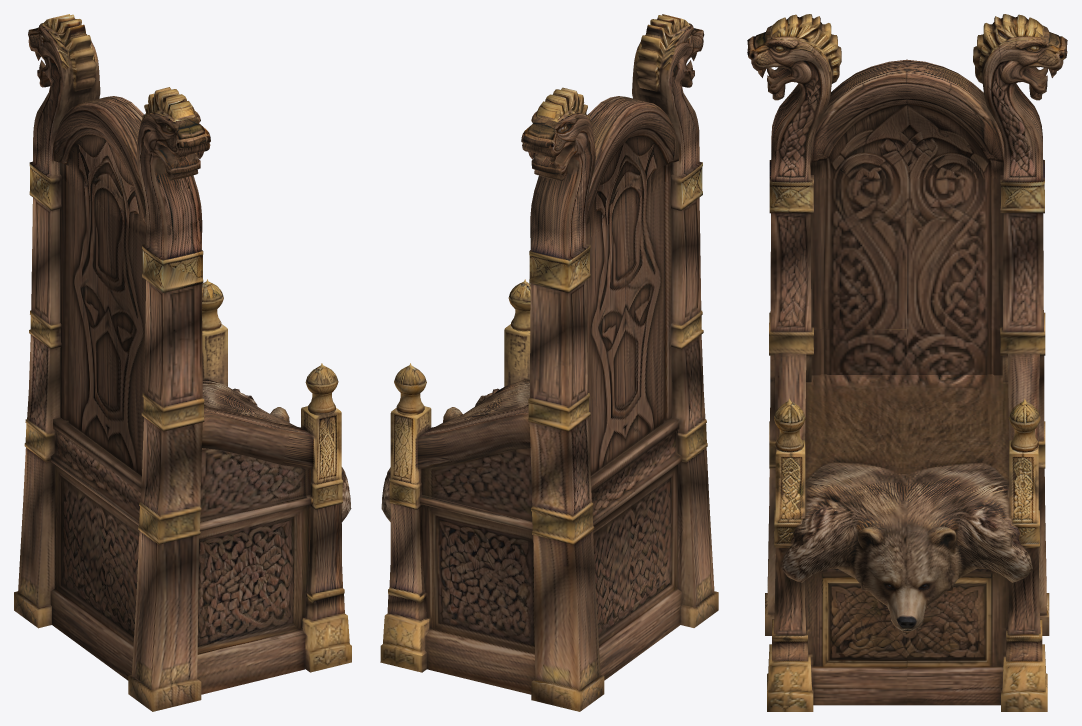
Rendered from SM_Env_HeorotHighSeatThrone.fbx.
The picture shows the model from 3 angles, left to right: view 1: azimuth 30°, elevation 25°; view 2: azimuth 150°, elevation 25°; view 3: azimuth 270°, elevation 25°; orthographic projection. The views are drawn at different scales.
Visible parts, largest first — view 1: SM_Env_HeorotHighSeatThrone; view 2: SM_Env_HeorotHighSeatThrone; view 3: SM_Env_HeorotHighSeatThrone.
Boxes of the visible parts, x1=… form: SM_Env_HeorotHighSeatThrone: x1=14, y1=14, x2=351, y2=711; SM_Env_HeorotHighSeatThrone: x1=380, y1=14, x2=718, y2=711; SM_Env_HeorotHighSeatThrone: x1=747, y1=14, x2=1067, y2=711.
Bounding box in the file's own units: 26.17 × 28.46 × 60.
Materials: 1 (1 with a texture image).
